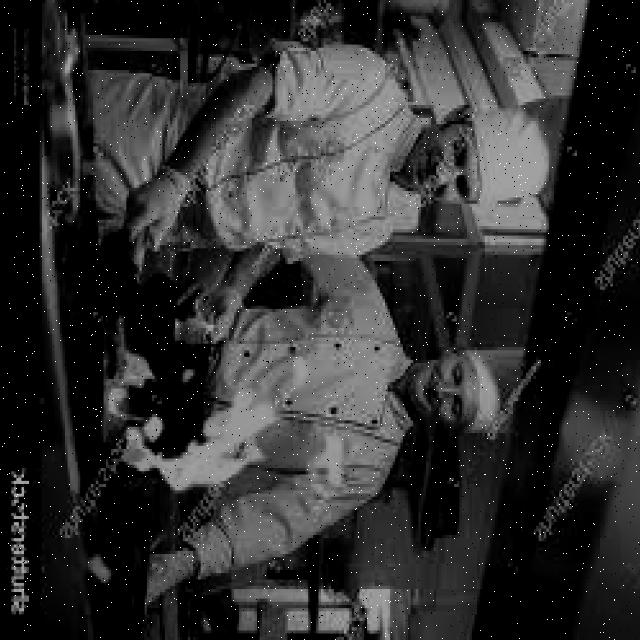api: (88, 285, 278, 517)
